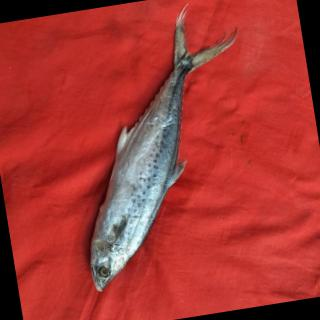Ikan: (45, 1, 272, 301)
